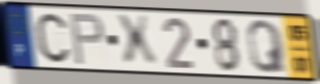2: (162, 15, 196, 71)
8: (211, 16, 243, 74)
C: (33, 11, 71, 65)
P: (68, 12, 107, 67)
Q: (245, 19, 289, 76)
X: (113, 13, 160, 69)
